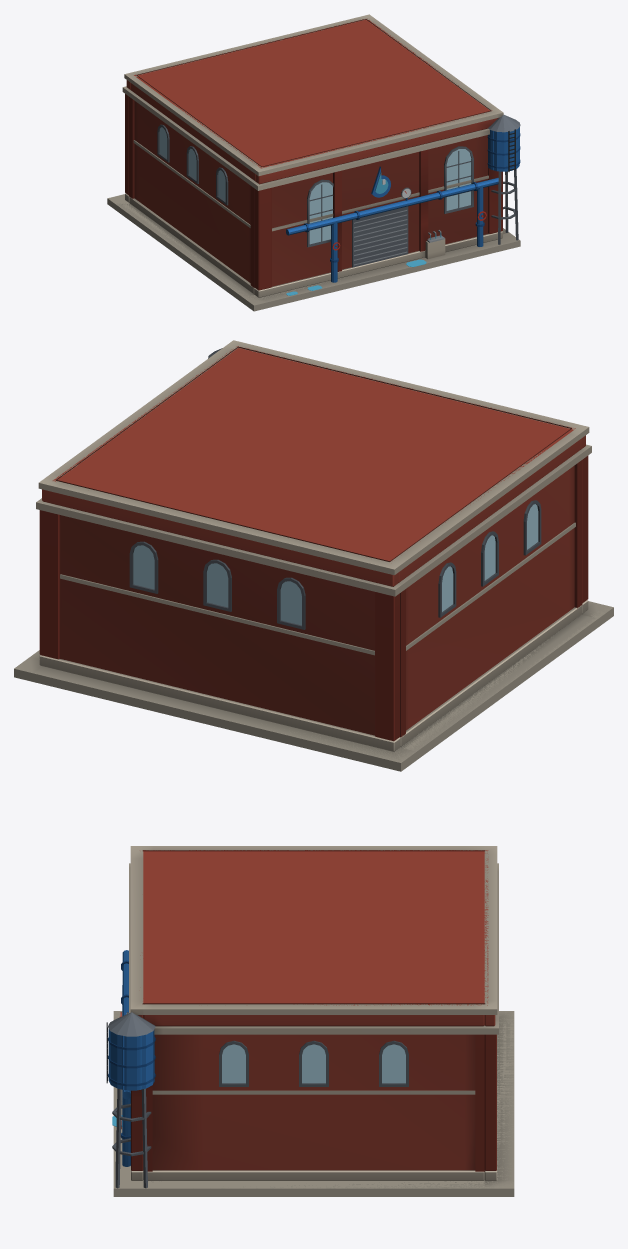
The model's file is DropBeetleFloor.fbx.
The picture shows the model from 3 angles, top to bottom: view 1: azimuth 30°, elevation 25°; view 2: azimuth 150°, elevation 25°; view 3: azimuth 270°, elevation 25°; orthographic projection. The views are drawn at different scales.
Visible parts, largest first — view 1: WT_S_All, WT_F_Rings, WT_F_Smooth, WT_F_Quiet, WT_F_Glass, WT_F_Props; view 2: WT_F_Rings, WT_S_All, WT_F_Smooth, WT_F_Quiet, WT_F_Glass; view 3: WT_S_All, WT_F_Rings, WT_F_Smooth, WT_F_Quiet, WT_F_Glass, WT_F_Props.
Part boxes in pixels (<box>): WT_S_All: <box>107,18,520,311</box>; WT_F_Rings: <box>123,14,519,297</box>; WT_F_Smooth: <box>122,74,520,297</box>; WT_F_Quiet: <box>114,94,519,305</box>; WT_F_Glass: <box>159,127,471,295</box>; WT_F_Props: <box>425,115,520,259</box>; WT_F_Rings: <box>36,340,591,751</box>; WT_S_All: <box>14,346,613,771</box>; WT_F_Smooth: <box>36,427,591,751</box>; WT_F_Quiet: <box>14,455,612,762</box>; WT_F_Glass: <box>133,504,538,625</box>; WT_S_All: <box>110,850,514,1196</box>; WT_F_Rings: <box>108,846,498,1180</box>; WT_F_Smooth: <box>106,950,498,1188</box>; WT_F_Quiet: <box>114,1011,513,1188</box>; WT_F_Glass: <box>112,1044,405,1126</box>; WT_F_Props: <box>108,1012,155,1036</box>.
Size of the model in its own units: 60 by 20 by 60.
